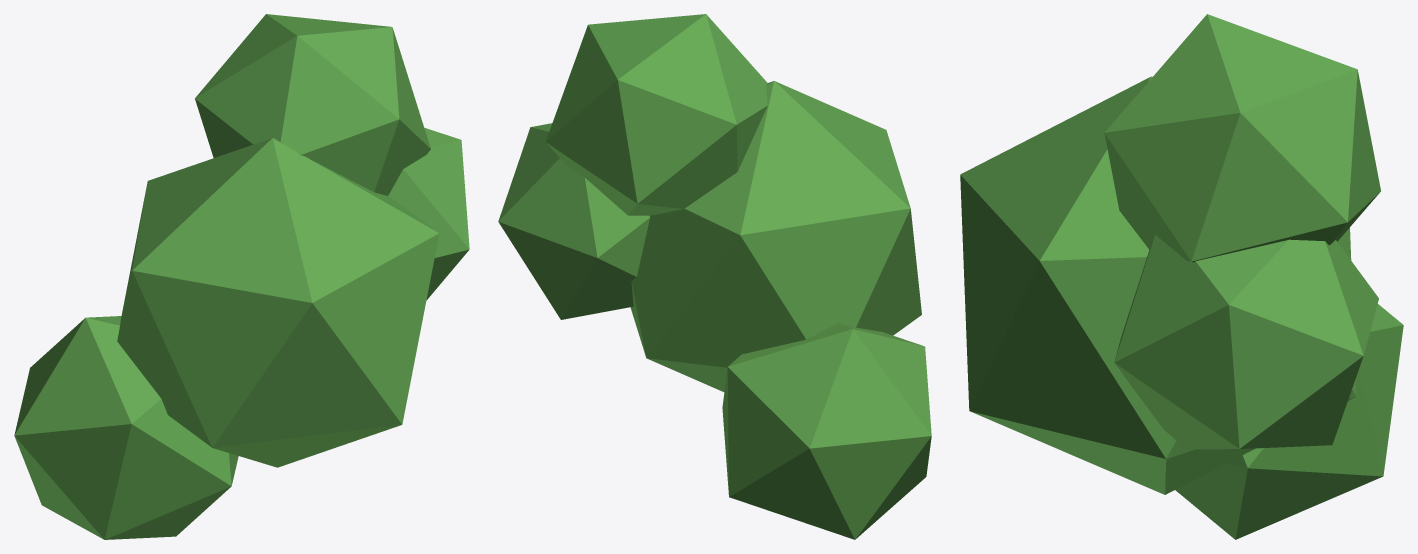
The model's file is bush-2-temperate.glb.
3 views of the same model, side by side, from view 1: azimuth 30°, elevation 25°; view 2: azimuth 150°, elevation 25°; view 3: azimuth 270°, elevation 25° (orthographic). The views are drawn at different scales.
Visible parts, largest first — view 1: Icosphere.007; view 2: Icosphere.007; view 3: Icosphere.007.
Part boxes in pixels (x1,y1,x2,y2): Icosphere.007: [14, 14, 469, 539]; Icosphere.007: [498, 14, 931, 539]; Icosphere.007: [960, 14, 1403, 539].
Bounding box in the file's own units: 3.75 × 3.95 × 2.68.
